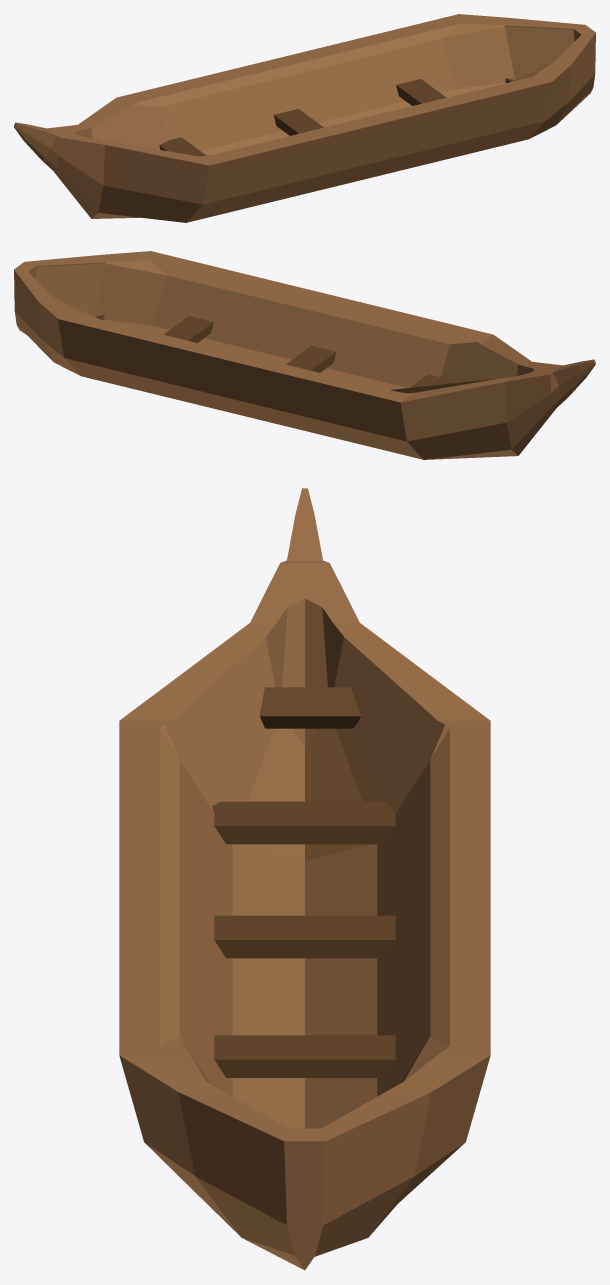
File: Boat.fbx
The picture shows the model from 3 angles, top to bottom: view 1: azimuth 30°, elevation 25°; view 2: azimuth 150°, elevation 25°; view 3: azimuth 270°, elevation 25°; orthographic projection. The views are drawn at different scales.
Parts seen in each view (by area): view 1: Boat; view 2: Boat; view 3: Boat.
Boxes of the visible parts, left/top/right/bottom form: Boat: left=14, top=14, right=595, bottom=222; Boat: left=14, top=251, right=595, bottom=459; Boat: left=119, top=488, right=490, bottom=1270.
Bounding box in the file's own units: 717 × 155 × 200.
